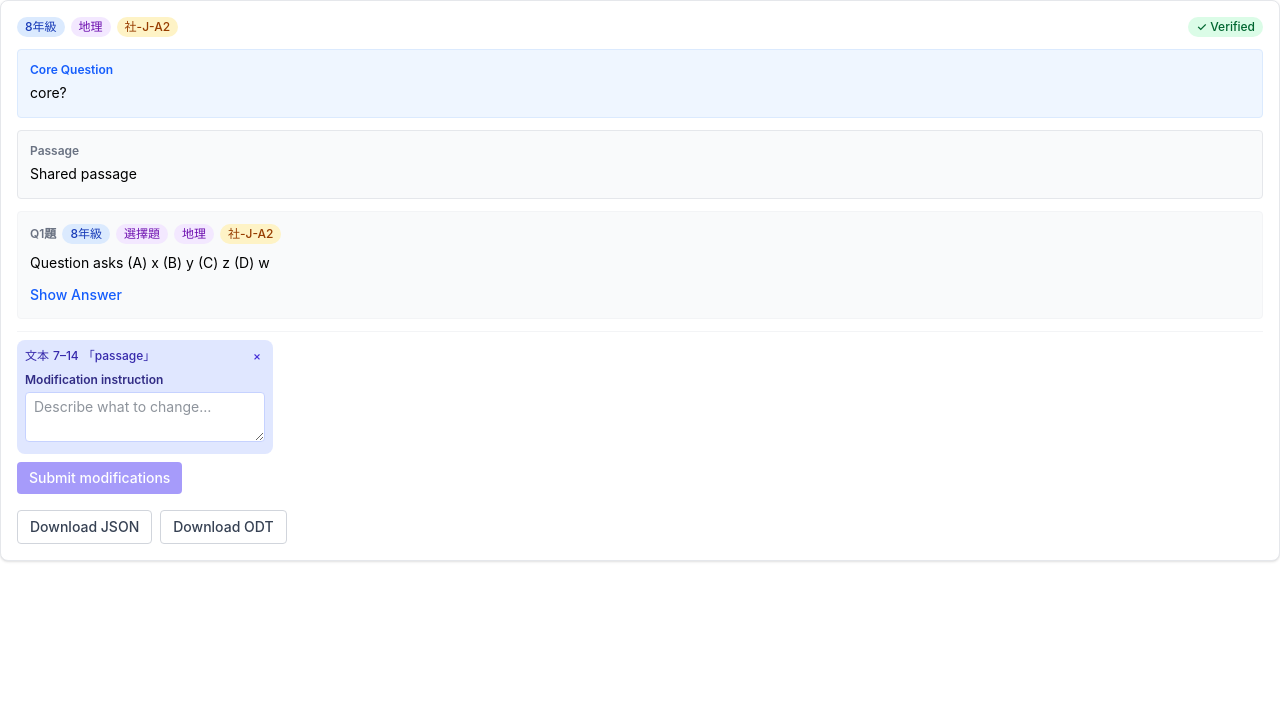
QuestionCard 圈選 capture › gives each captured 圈選 an editable 修改指示 and deletes its chip and note together
The image size is (1280, 720).
Type "Fix the wording" into the text box named "Modification instruction 1". click: (145, 417)
box: left=25, top=392, right=265, bottom=442
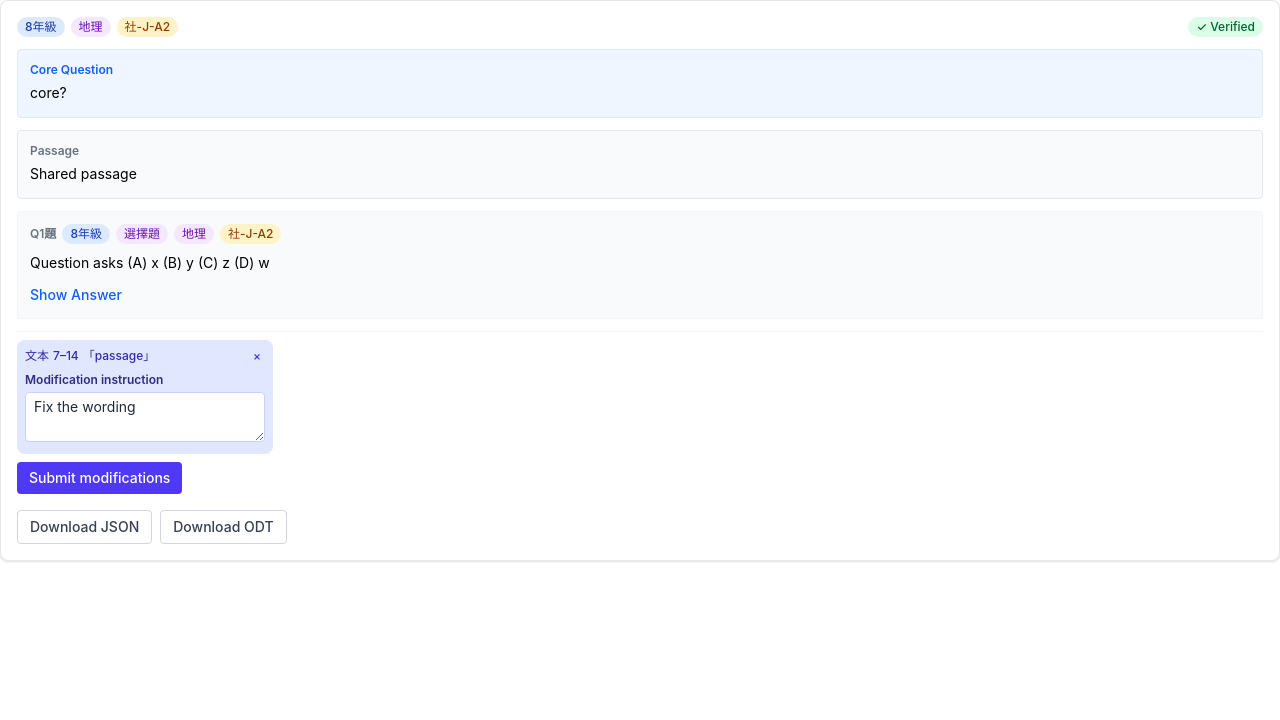
Click the button named "Delete selection 1". click: (257, 356)
box: left=249, top=348, right=265, bottom=364
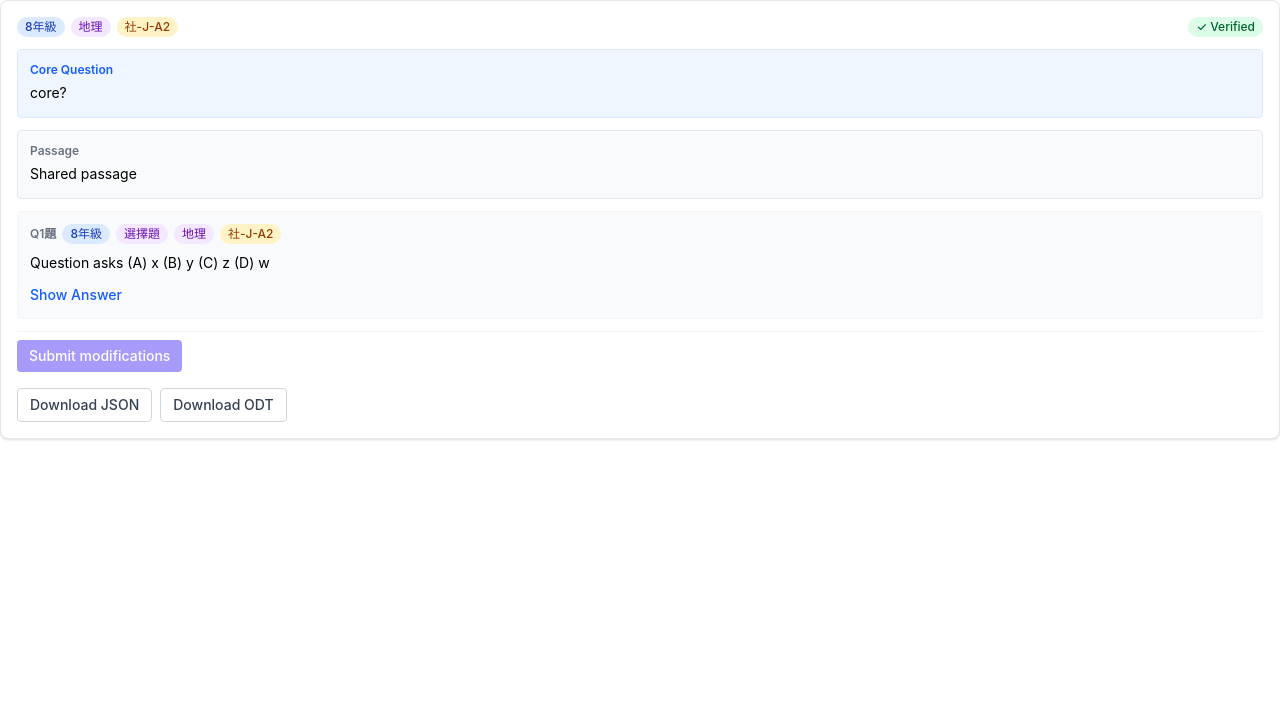
Result: the list item "文本 7–14 「passage」 × Modification instruction" is gone
